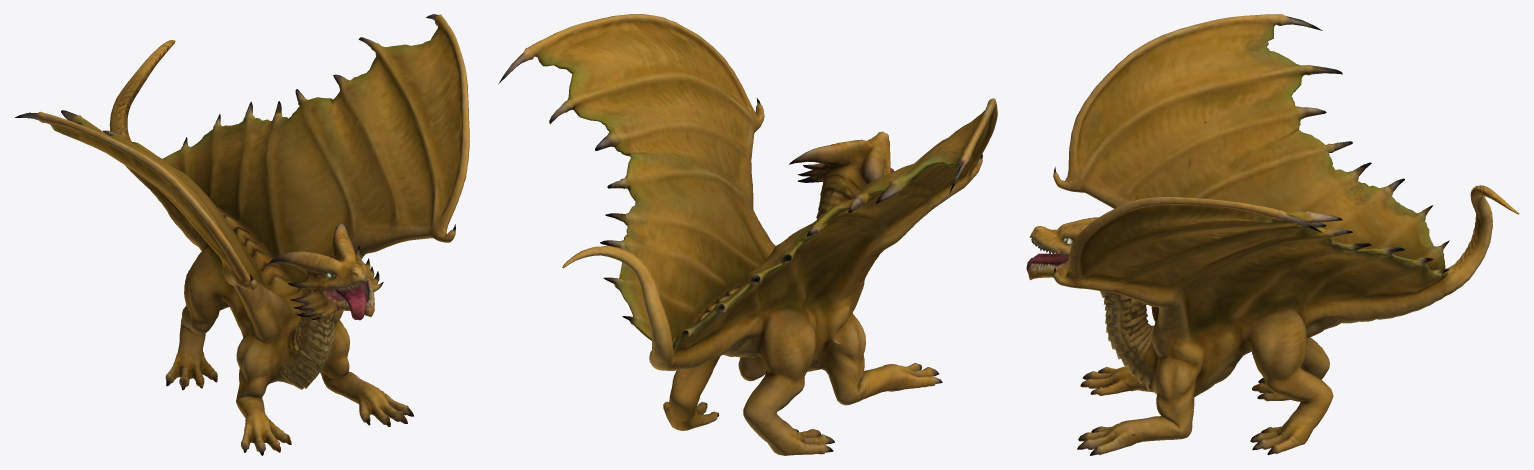
The model's file is MZ4250 - Dragon Copper Wyrmling.glb.
The picture shows the model from 3 angles, left to right: view 1: azimuth 30°, elevation 25°; view 2: azimuth 150°, elevation 25°; view 3: azimuth 270°, elevation 25°; orthographic projection. The views are drawn at different scales.
Visible parts, largest first — view 1: Cylinder.001; view 2: Cylinder.001; view 3: Cylinder.001.
Part boxes in pixels (x1,y1,x2,y2): Cylinder.001: (14,14,469,455); Cylinder.001: (498,14,997,455); Cylinder.001: (1026,14,1519,455).
Bounding box in the file's own units: 0.9519 × 0.6796 × 0.9817.
Materials: 1 (1 with a texture image).
